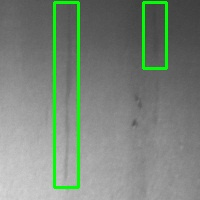inclusion: (54, 2, 78, 187), (143, 2, 166, 68)
